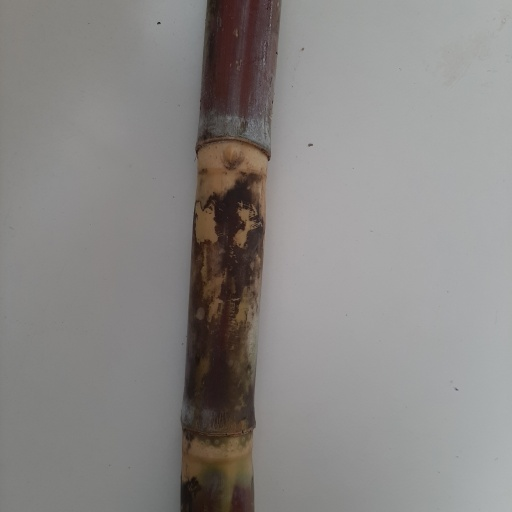Bud: (220, 143, 246, 173)
